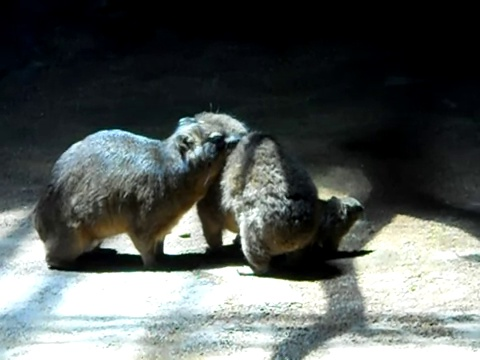Rock Hyrex: (28, 110, 241, 275), (181, 113, 320, 276)
